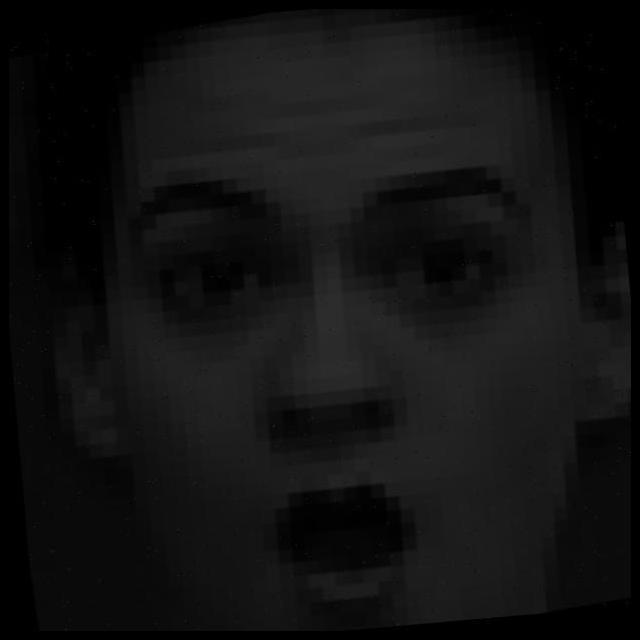Surprised: (75, 62, 592, 631)
